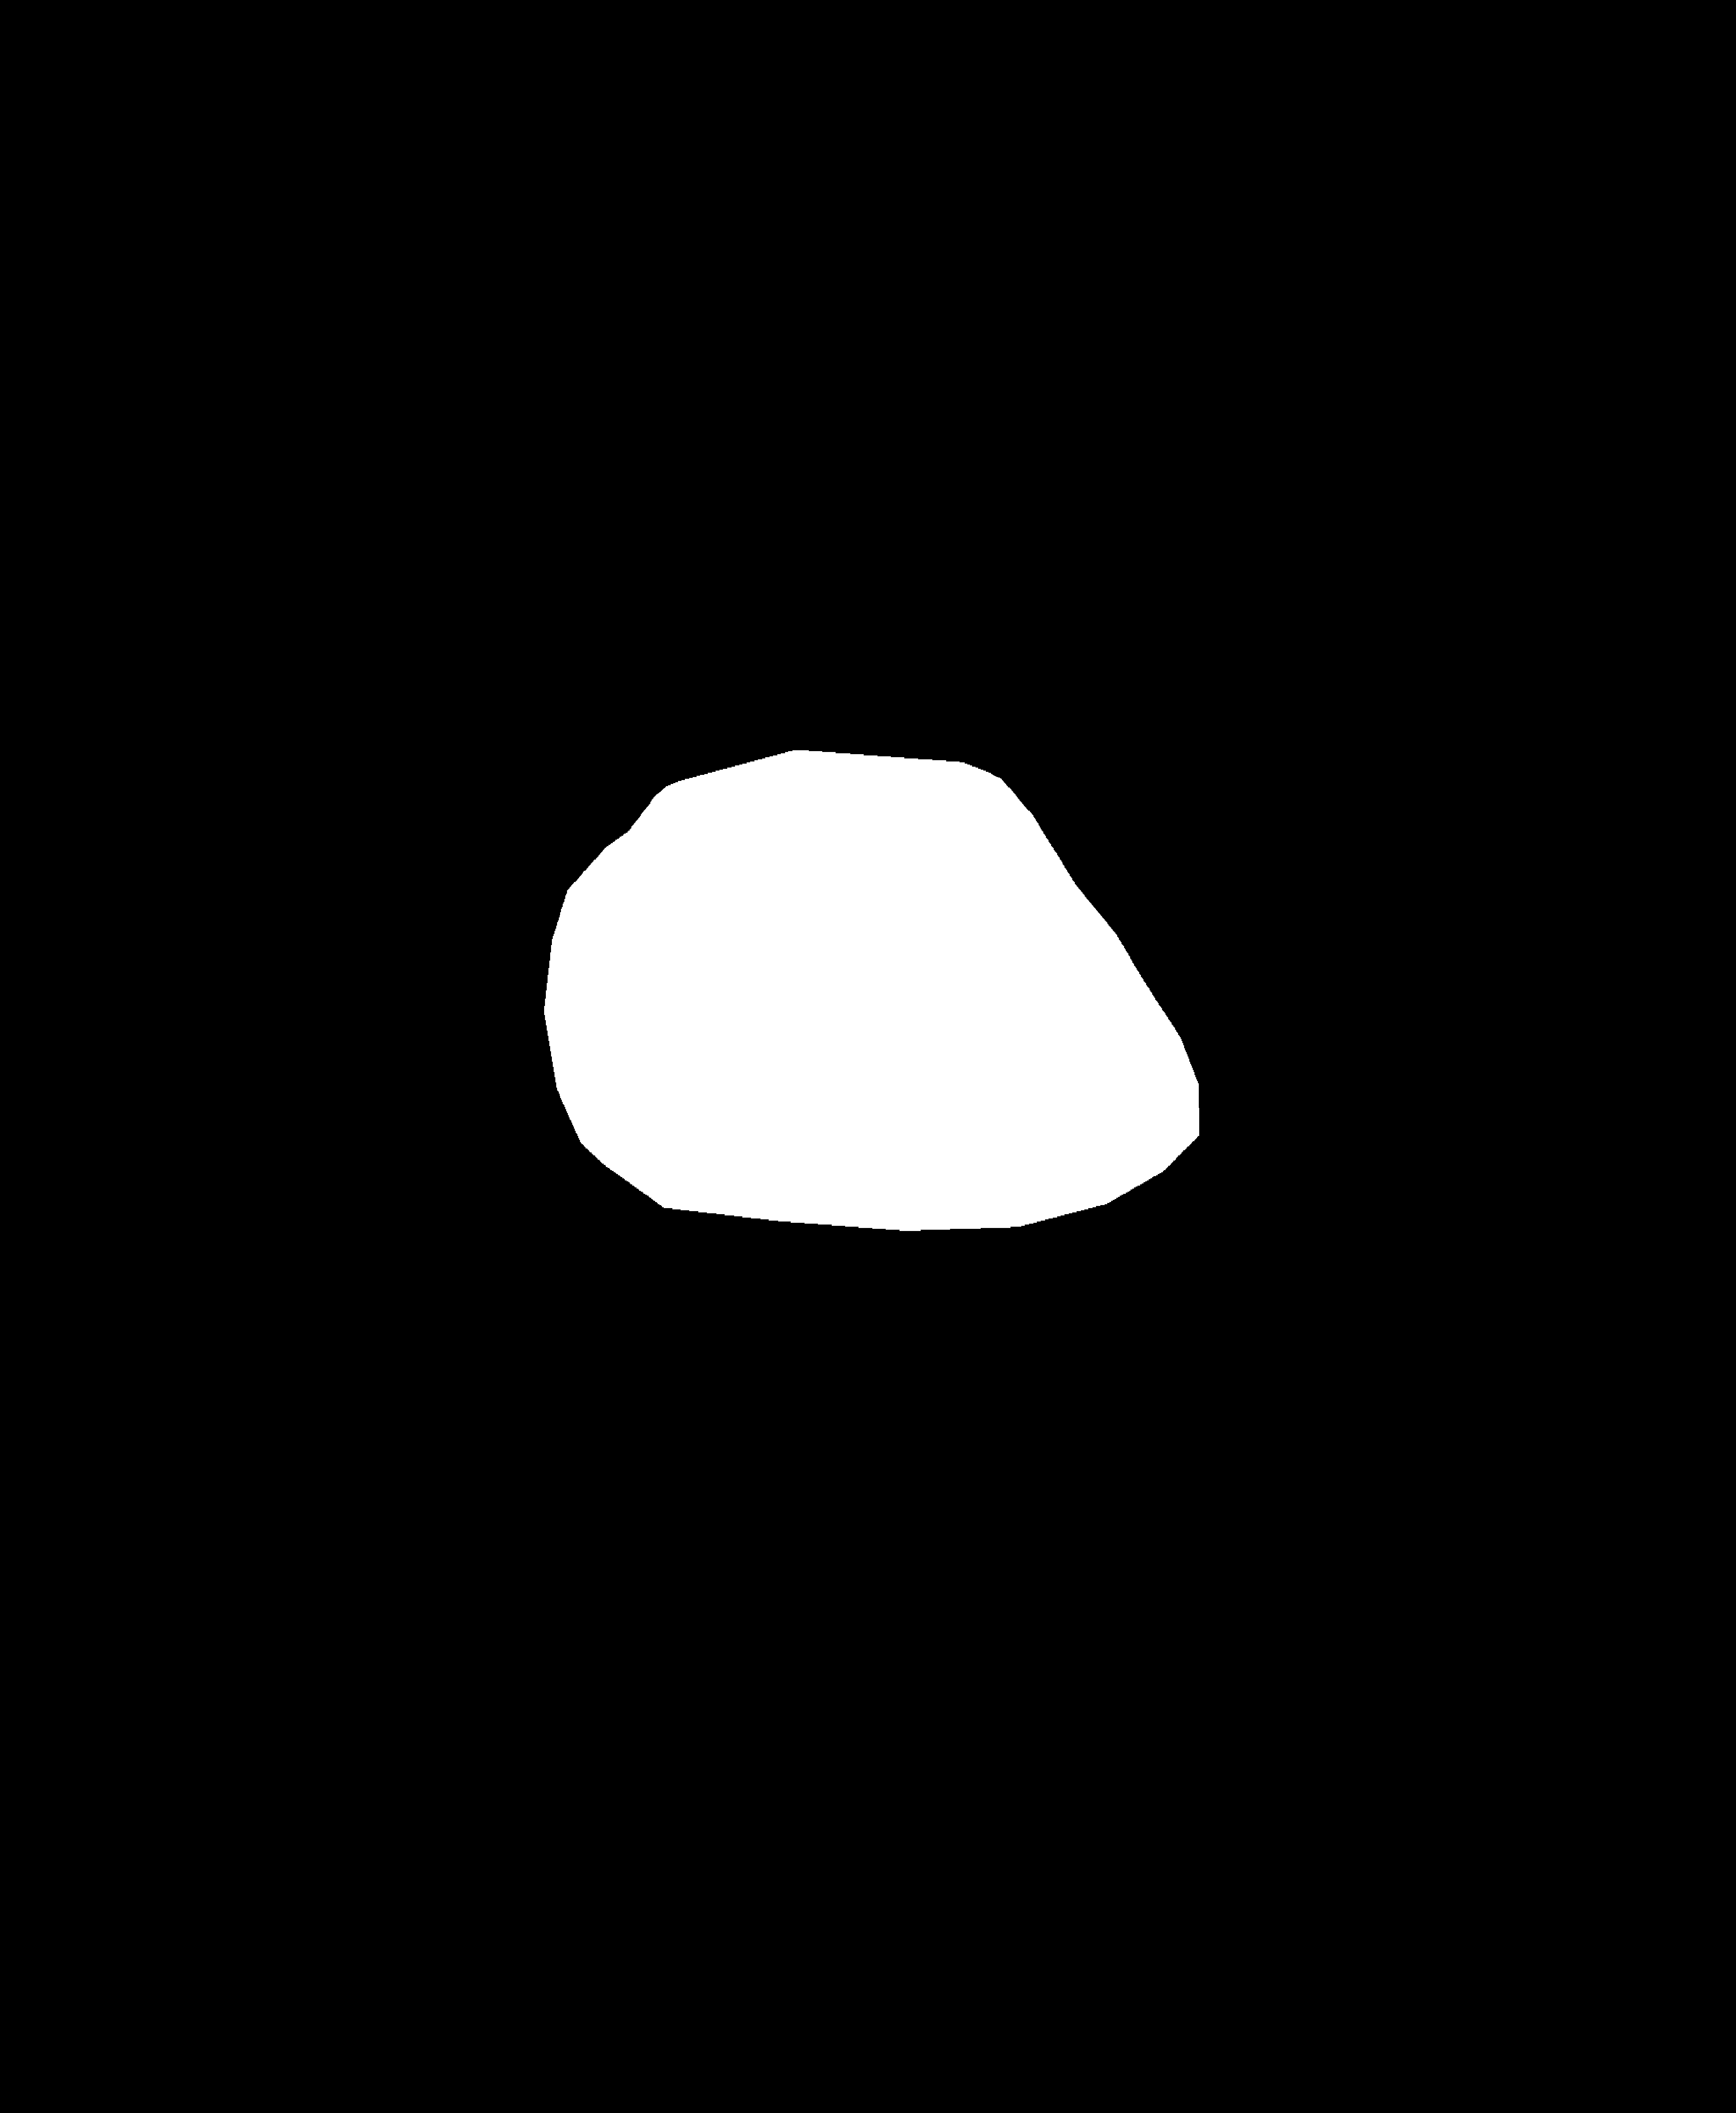heart: (544, 783, 1201, 1174)
left_lung: (100, 198, 746, 1337)
right_lung: (853, 195, 1478, 1278)
